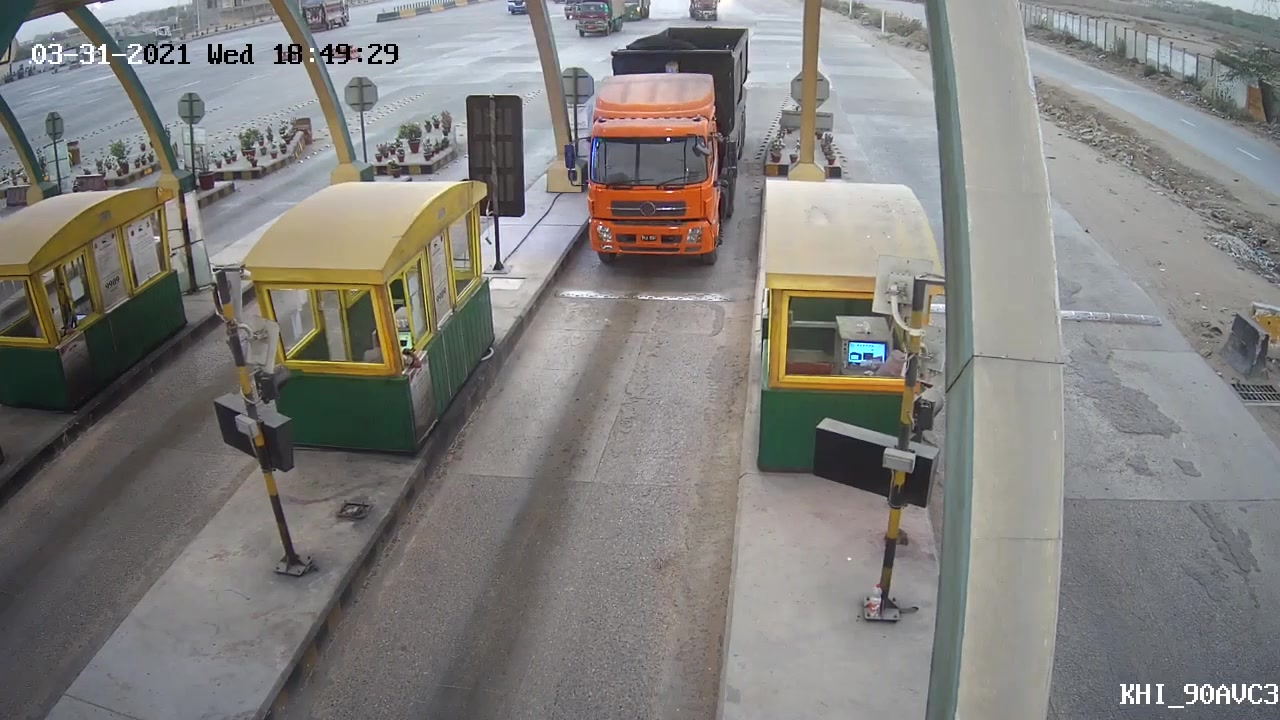F5: (568, 18, 758, 267)
